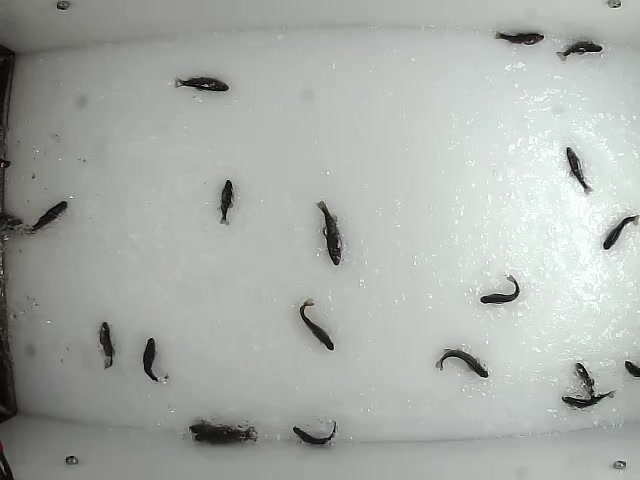fish: (313, 199, 345, 267), (299, 297, 336, 352), (434, 346, 493, 380), (19, 199, 70, 238), (565, 144, 594, 199), (142, 336, 173, 386), (291, 417, 339, 449), (479, 273, 520, 306), (559, 389, 618, 411), (187, 422, 259, 439), (555, 39, 604, 61), (572, 362, 599, 401), (216, 177, 237, 227), (96, 318, 116, 370), (191, 431, 260, 446), (172, 76, 232, 93), (494, 27, 546, 46)
